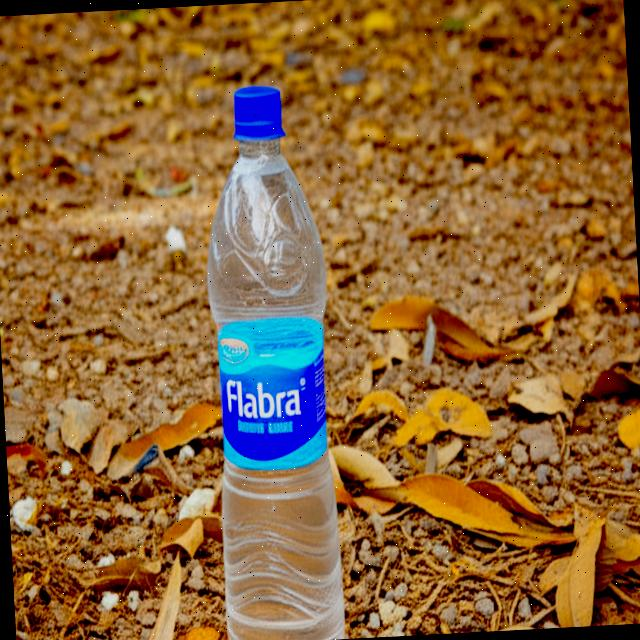plastic: (194, 80, 345, 640)
